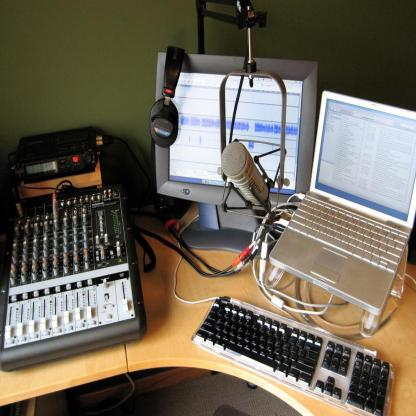board: (269, 92, 416, 311)
